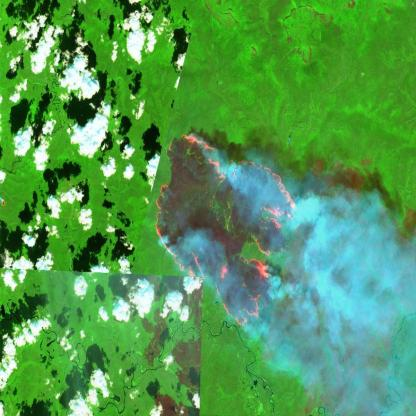fire: (150, 127, 304, 355)
